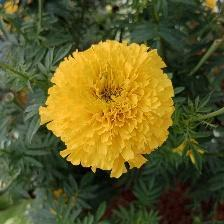marigold: (45, 38, 182, 181)
